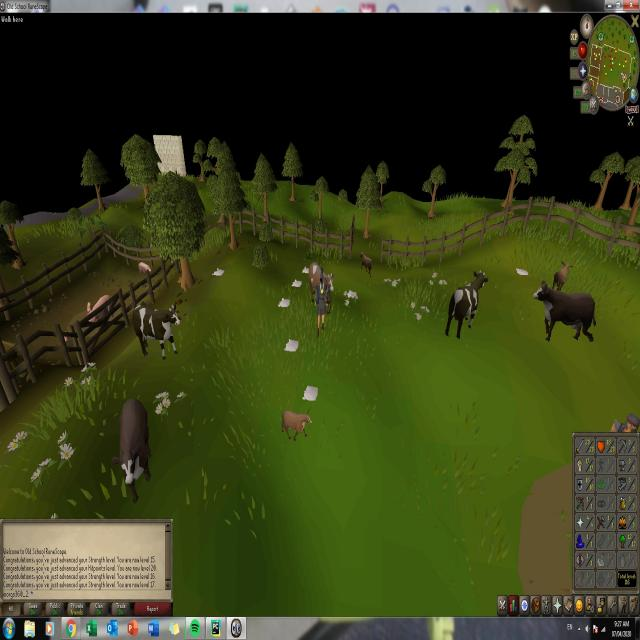cow: (113, 397, 150, 503), (533, 280, 595, 343), (445, 268, 489, 344), (131, 302, 179, 362), (280, 407, 312, 442), (550, 260, 573, 290), (307, 260, 317, 305), (359, 250, 373, 274)
player: (316, 270, 328, 336)
